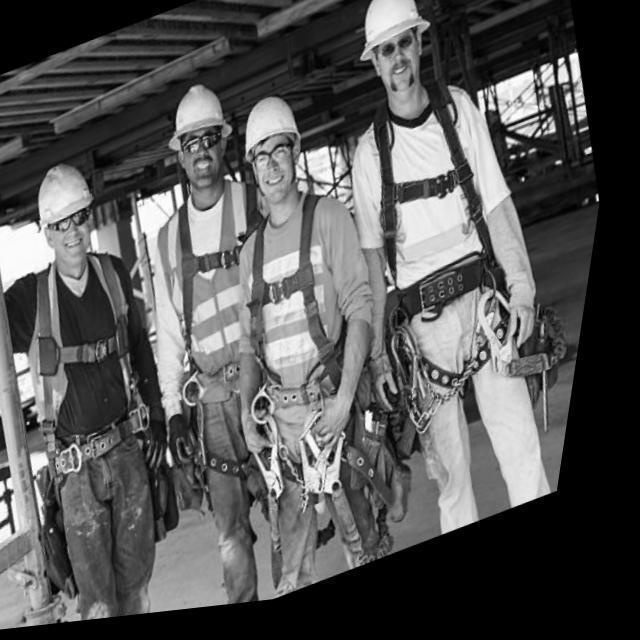Arnes_seguridad: (369, 90, 501, 355), (23, 249, 152, 477), (240, 203, 353, 396), (169, 187, 250, 385)
